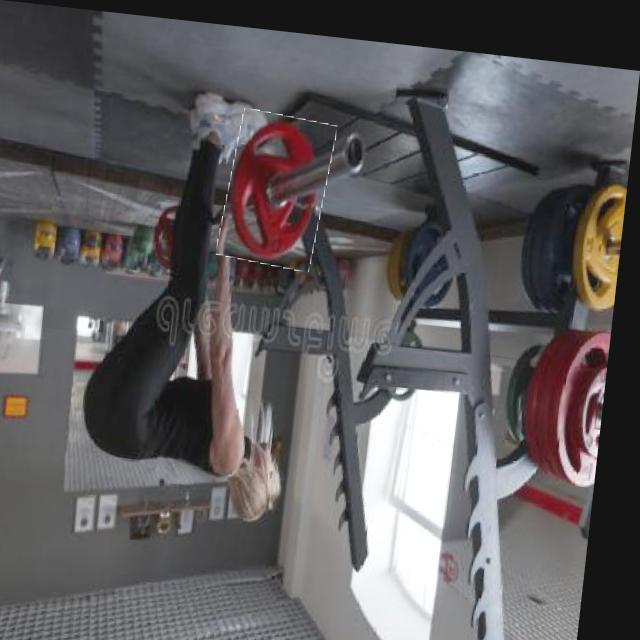barbell: (225, 104, 338, 264)
